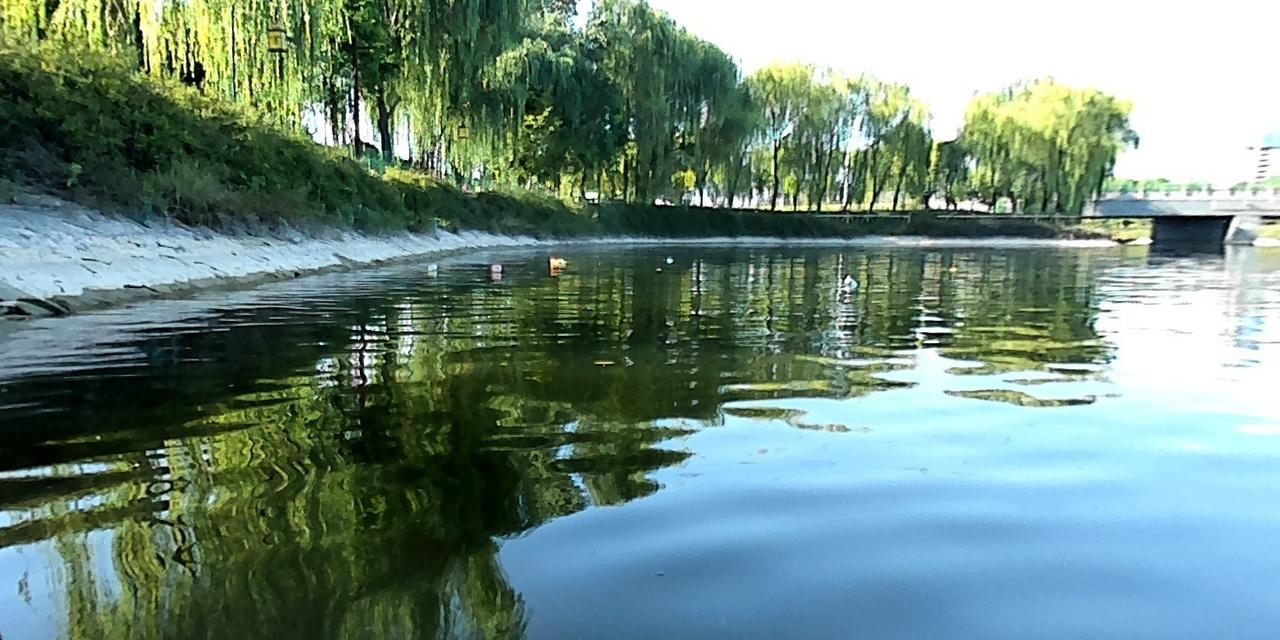bottle: (546, 256, 568, 267), (488, 261, 503, 272)
